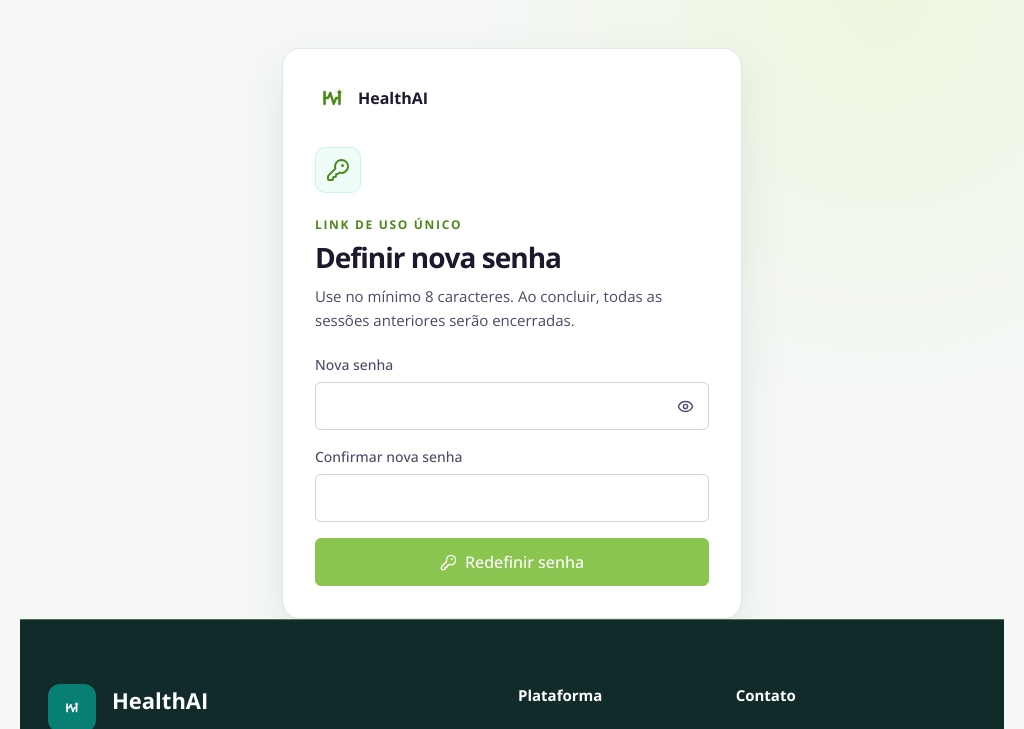
Scenario: recuperação de senha › valida a confirmação e redefine com token
This screenshot has width=1024, height=729.
Type "nova-senha-segura" into the password field labelled "Nova senha" at coordinates (512, 406), box [315,382,709,430]
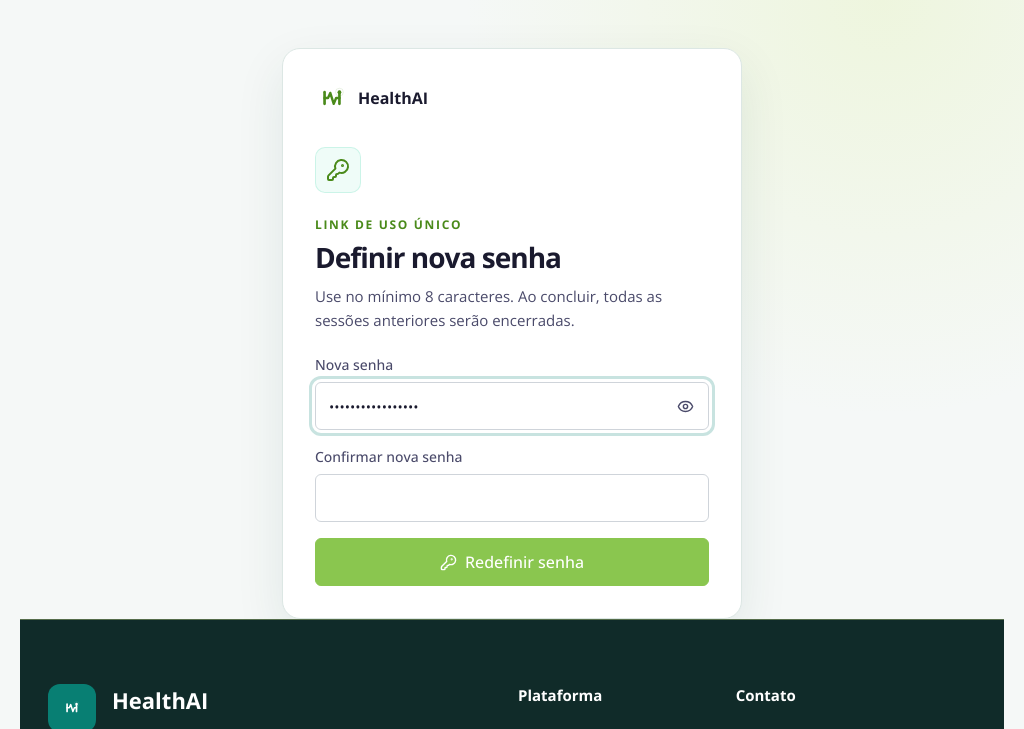
Type "nova-senha-segura" into the password field labelled "Confirmar nova senha" at coordinates (512, 498), box [315,474,709,522]
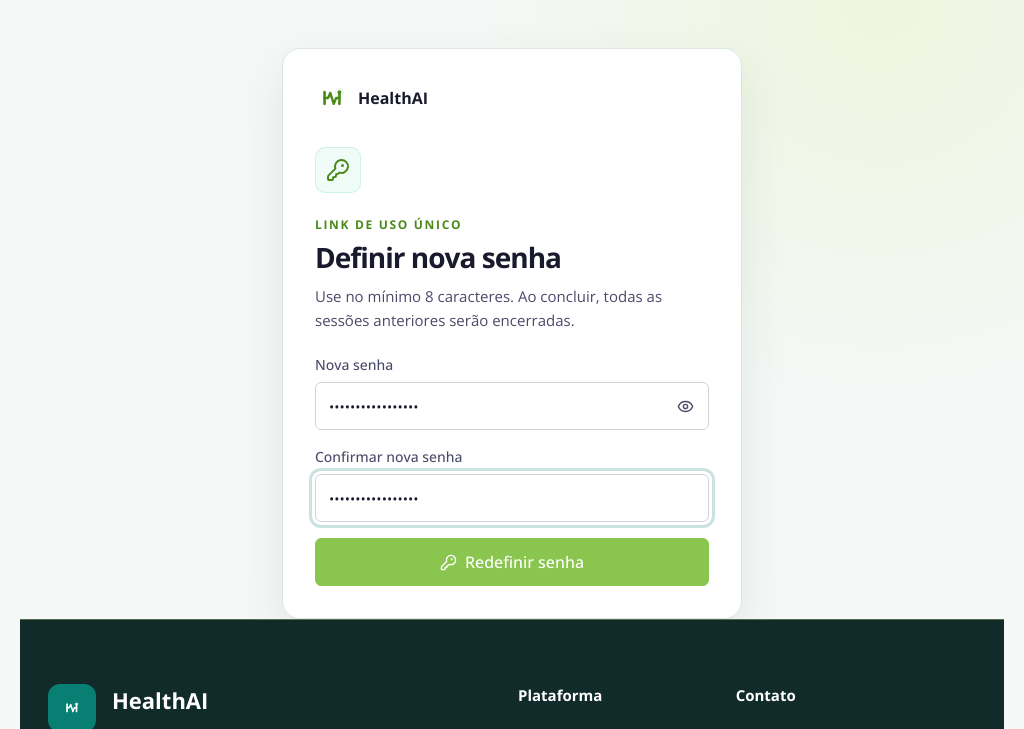
Click the button "Redefinir senha" at coordinates (512, 562), box [315,538,709,586]
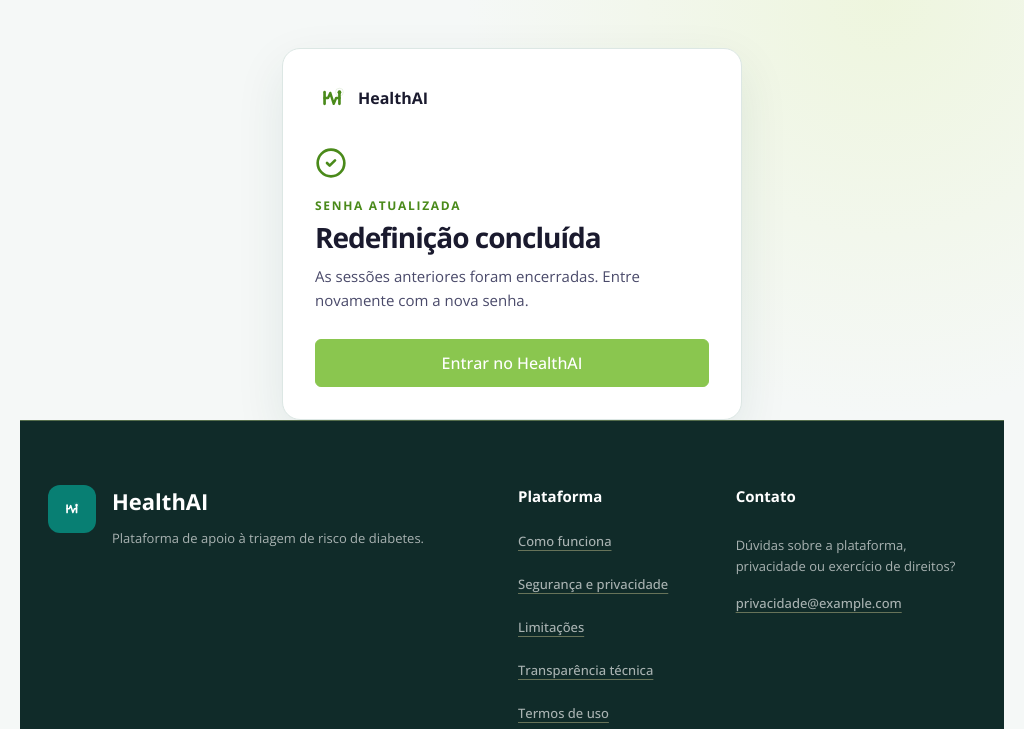
expect the heading "Redefinição concluída" is shown: met, box [315,220,601,255]
